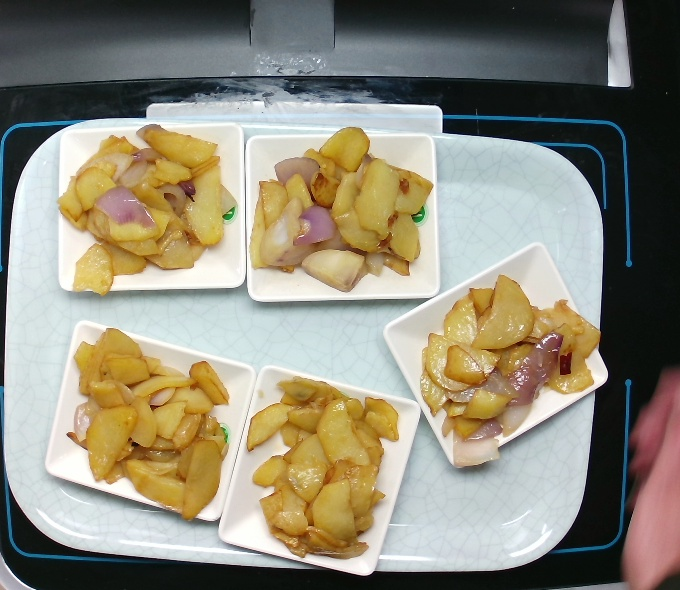wcq-TuDouPian: (413, 272, 602, 469), (63, 325, 230, 522), (56, 122, 243, 297), (249, 124, 432, 293), (241, 374, 402, 561)
